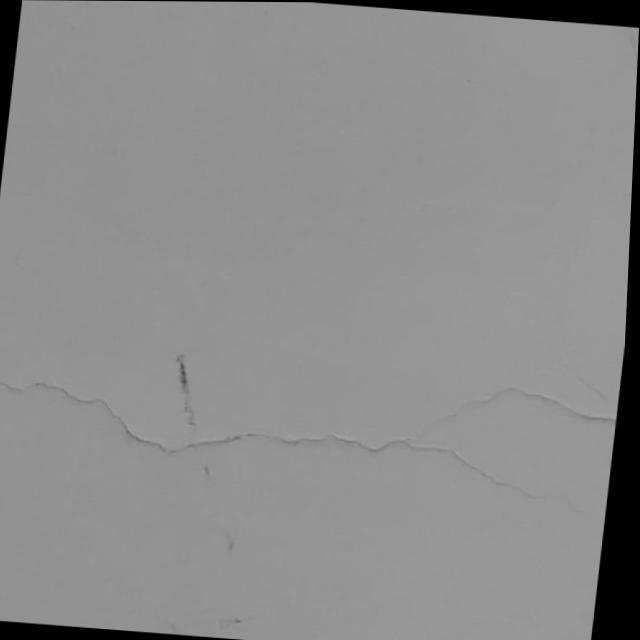Crack: (8, 380, 596, 503)
